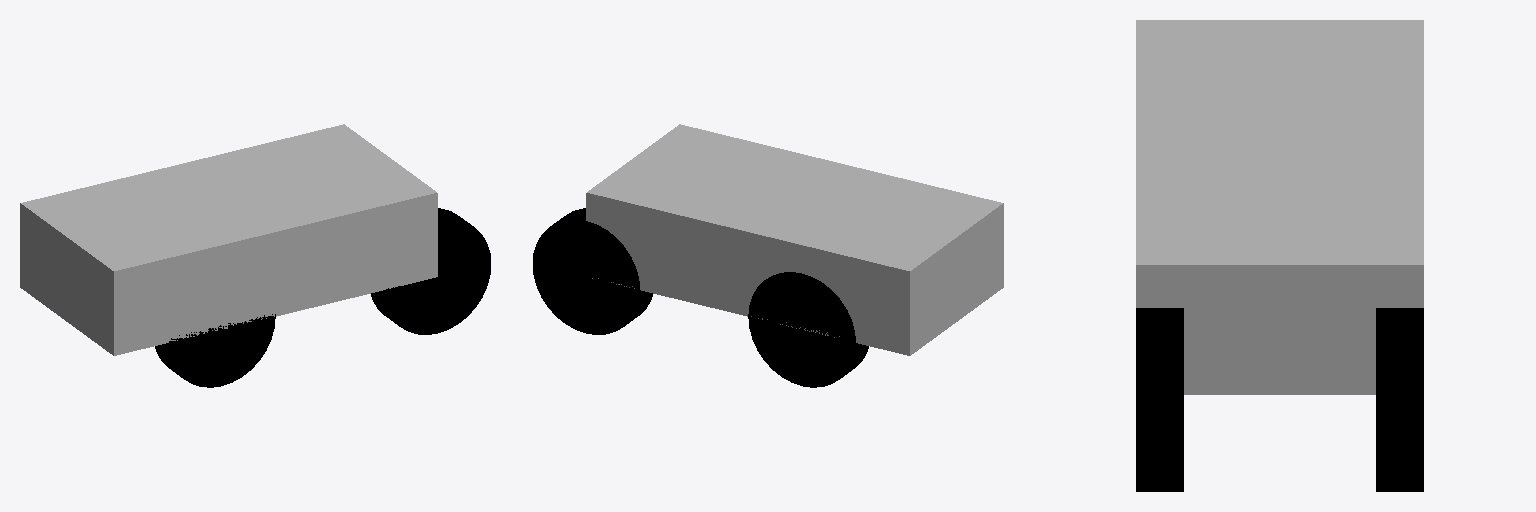
The robot description file, URDF, robot "tortoisebot":
<?xml version="1.0"?>
<robot name="tortoisebot">

  <link name="base_link">
    <visual>
      <geometry>
        <box size="0.6 0.3 0.15"/>
      </geometry>
      <material name="silver">
        <color rgba="0.75 0.75 0.75 1"/>
      </material>
    </visual>
    <collision>
      <geometry>
      <box size="0.6 0.3 0.3"/>
      </geometry>
    </collision>
    <inertial>
      <mass value="1.0"/>
      <inertia ixx="0.015" iyy="0.0375" izz="0.0375" ixy="0" ixz="0" iyz="0"/>
    </inertial>
  </link>

  <link name="right_front_wheel">
    <visual>
      <geometry>
        <cylinder length="0.05" radius="0.1"/>"0.3 0.1 0.1"/>
      </geometry>
      <material name="black">
        <color rgba="0 0 0 1"/>
      </material>
    </visual>
    <collision>
      <geometry>
        <cylinder length="0.05" radius="0.1"/>"0.3 0.1 0.1"/>
      </geometry>
      <surface>
        
      </surface>
    </collision> 
    <inertial>
      <mass value="0.1"/>
      <inertia ixx="5.1458e-5" iyy="5.1458e-5" izz="6.125e-5" ixy="0" ixz="0" iyz="0"/>
    </inertial>
  </link>

  <joint name="right_front_wheel_joint" type="continuous">
    <axis xyz="0 0 1"/>
    <parent link="base_link"/>
    <child link="right_front_wheel"/>
    <origin rpy="-1.5708 0 0" xyz="0.3 -0.125 -.075"/>
  </joint>

  <gazebo reference="right_front_wheel">
    <kp>1000000.0</kp>
    <!-- kp and kd for rubber -->
    <kd>100.0</kd>
    <mu1>1.0</mu1>
    <!-- was 10 -->
    <mu2>1.0</mu2>
    <!-- how to get these into <surface><friction><ode>... ?
        slip1 0.5 /slip1 
         slip2 0 /slip2 
      -->
    <!-- fdir1 0 1 0 /fdir1 -->
    <!-- see http://github.com/MobileRobots/amr-ros-config/issues/6 -->
    <maxVel>1.0</maxVel>
    <minDepth>0.00</minDepth>
    <material value="Gazebo/Black"/>
  </gazebo>

  <link name="right_back_wheel">
    <visual>
      <geometry>
        <cylinder length="0.05" radius="0.1"/>"0.3 0.1 0.1"/>
      </geometry>
      <material name="black">
        <color rgba="0 0 0 1"/>
      </material>
    </visual>
    <collision>
      <geometry>
        <cylinder length="0.05" radius="0.1"/>"0.3 0.1 0.1"/>
      </geometry>
      <surface>
        
      </surface>
    </collision> 
    <inertial>
      <mass value="0.1"/>
      <inertia ixx="5.1458e-5" iyy="5.1458e-5" izz="6.125e-5" ixy="0" ixz="0" iyz="0"/>
    </inertial>
  </link>

  <joint name="right_back_wheel_joint" type="continuous">
    <axis xyz="0 0 1"/>
    <parent link="base_link"/>
    <child link="right_back_wheel"/>
    <origin rpy="-1.5708 0 0" xyz="-0.1 -0.125 -.075"/>
  </joint>

  <gazebo reference="right_back_wheel">
    <kp>1000000.0</kp>
    <!-- kp and kd for rubber -->
    <kd>100.0</kd>
    <mu1>1.0</mu1>
    <!-- was 10 -->
    <mu2>1.0</mu2>
    <!-- how to get these into <surface><friction><ode>... ?
        slip1 0.5 /slip1 
         slip2 0 /slip2 
      -->
    <!-- fdir1 0 1 0 /fdir1 -->
    <!-- see http://github.com/MobileRobots/amr-ros-config/issues/6 -->
    <maxVel>1.0</maxVel>
    <minDepth>0.00</minDepth>
    <material value="Gazebo/Black"/>
  </gazebo>

  <link name="left_front_wheel">
    <visual>
      <geometry>
        <cylinder length="0.05" radius="0.1"/>"0.3 0.1 0.1"/>
      </geometry>
      <material name="black"/>
    </visual>
    <collision>
      <geometry>
        <cylinder length="0.05" radius="0.1"/>"0.3 0.1 0.1"/>
      </geometry>
      <surface>
        
      </surface>
    </collision> 
    <inertial>
      <mass value="0.1"/>
      <inertia ixx="5.1458e-5" iyy="5.1458e-5" izz="6.125e-5" ixy="0" ixz="0" iyz="0"/>
    </inertial>
  </link>

  <joint name="left_front_wheel_joint" type="continuous">
    <axis xyz="0 0 1"/>
    <parent link="base_link"/>
    <child link="left_front_wheel"/>
    <origin rpy="-1.5708 0 0" xyz="0.3 0.125 -.075"/>
  </joint>

  <gazebo reference="left_front_wheel">
    <kp>1000000.0</kp>
    <!-- kp and kd for rubber -->
    <kd>100.0</kd>
    <mu1>1.0</mu1>
    <!-- was 10 -->
    <mu2>1.0</mu2>
    <!-- how to get these into <surface><friction><ode>... ?
        slip1 0.5 /slip1 
         slip2 0 /slip2 
      -->
    <!-- fdir1 0 1 0 /fdir1 -->
    <!-- see http://github.com/MobileRobots/amr-ros-config/issues/6 -->
    <maxVel>1.0</maxVel>
    <minDepth>0.00</minDepth>
    <material value="Gazebo/Black"/>
  </gazebo>

  <link name="left_back_wheel">
    <visual>
      <geometry>
        <cylinder length="0.05" radius="0.1"/>"0.3 0.1 0.1"/>
      </geometry>
      <material name="black"/>
    </visual>
    <collision>
      <geometry>
        <cylinder length="0.05" radius="0.1"/>"0.3 0.1 0.1"/>
      </geometry>
      <surface>
        
      </surface>
    </collision> 
    <inertial>
      <mass value="0.1"/>
      <inertia ixx="5.1458e-5" iyy="5.1458e-5" izz="6.125e-5" ixy="0" ixz="0" iyz="0"/>
    </inertial>
  </link>

  <joint name="left_back_wheel_joint" type="continuous">
    <axis xyz="0 0 1"/>
    <parent link="base_link"/>
    <child link="left_back_wheel"/>
    <origin rpy="-1.5708 0 0" xyz="-0.1 0.125 -.075"/>
  </joint>

  <gazebo reference="left_back_wheel">
    <kp>1000000.0</kp>
    <!-- kp and kd for rubber -->
    <kd>100.0</kd>
    <mu1>1.0</mu1>
    <!-- was 10 -->
    <mu2>1.0</mu2>
    <!-- how to get these into <surface><friction><ode>... ?
        slip1 0.5 /slip1 
         slip2 0 /slip2 
      -->
    <!-- fdir1 0 1 0 /fdir1 -->
    <!-- see http://github.com/MobileRobots/amr-ros-config/issues/6 -->
    <maxVel>1.0</maxVel>
    <minDepth>0.00</minDepth>
    <material value="Gazebo/Black"/>
  </gazebo>

<!---->
    <transmission name="right_back_wheel_transmission">
        <type>transmission_interface/SimpleTransmission</type>
        <joint name="right_back_wheel_joint">
            <hardwareInterface>EffortJointInterface</hardwareInterface>
        </joint>
        <actuator name="$right_back_wheel_motor">
            <hardwareInterface>EffortJointInterface</hardwareInterface>
            <mechanicalReduction>1</mechanicalReduction>
        </actuator>
    </transmission>

    <transmission name="right_front_wheel_transmission">
        <type>transmission_interface/SimpleTransmission</type>
        <joint name="right_front_wheel_joint">
            <hardwareInterface>EffortJointInterface</hardwareInterface>
        </joint>
        <actuator name="$right_front_wheel_motor">
            <hardwareInterface>EffortJointInterface</hardwareInterface>
            <mechanicalReduction>1</mechanicalReduction>
        </actuator>
    </transmission>

    <transmission name="left_front_wheel_transmission">
        <type>transmission_interface/SimpleTransmission</type>
        <joint name="left_front_wheel_joint">
            <hardwareInterface>EffortJointInterface</hardwareInterface>
        </joint>
        <actuator name="$left_front_wheel_motor">
            <hardwareInterface>EffortJointInterface</hardwareInterface>
            <mechanicalReduction>1</mechanicalReduction>
        </actuator>
    </transmission>

    <transmission name="left_back_wheel_transmission">
        <type>transmission_interface/SimpleTransmission</type>
        <joint name="left_back_wheel_joint">
            <hardwareInterface>EffortJointInterface</hardwareInterface>
        </joint>
        <actuator name="$left_back_wheel_motor">
            <hardwareInterface>EffortJointInterface</hardwareInterface>
            <mechanicalReduction>1</mechanicalReduction>
        </actuator>
    </transmission>


  <gazebo>
    <plugin name="skid_steer_drive_controller" filename="libgazebo_ros_skid_steer_drive.so">
      <updateRate>100.0</updateRate>
      <robotNamespace>/</robotNamespace>
      <leftFrontJoint>left_front_wheel_joint</leftFrontJoint>
      <rightFrontJoint>right_front_wheel_joint</rightFrontJoint>
      <leftRearJoint>left_back_wheel_joint</leftRearJoint>
      <rightRearJoint>right_back_wheel_joint</rightRearJoint>
      <wheelSeparation>0.25}</wheelSeparation>
      <wheelDiameter>0.2</wheelDiameter>
      <robotBaseFrame>base_link</robotBaseFrame>
      <torque>20</torque>
      <commandName>cmd_vel</commandName>
      <broadcastTF>false</broadcastTF>
    </plugin>
  </gazebo>

  <gazebo>
    <plugin name="joint_state_publisher" filename="libgazebo_ros_joint_state_publisher.so">
      <jointName>left_back_wheel_joint, right_back_wheel_joint, left_front_wheel_joint, right_front_wheel_joint</jointName>
    </plugin>
  </gazebo>


</robot>

--- What the picture shows (computed from the rendered views, not written in the file) ---
Views: 3 orthographic renders of the robot side by side, from view 1: azimuth 30°, elevation 25°; view 2: azimuth 150°, elevation 25°; view 3: azimuth 270°, elevation 25°.
Robot: tortoisebot — 5 links, 4 joints (4 continuous); root link base_link; default pose: every joint at zero.
Visible links, largest first — view 1: base_link, right_front_wheel, right_back_wheel; view 2: base_link, left_front_wheel, left_back_wheel; view 3: base_link, right_front_wheel, left_front_wheel.
Boxes of the visible links, box(x1,y1,x2,y2) form: base_link: box(20, 124, 437, 355); right_front_wheel: box(371, 208, 490, 334); right_back_wheel: box(155, 314, 275, 387); base_link: box(586, 124, 1003, 355); left_front_wheel: box(533, 208, 652, 334); left_back_wheel: box(748, 272, 868, 387); base_link: box(1136, 20, 1423, 394); right_front_wheel: box(1136, 308, 1183, 491); left_front_wheel: box(1376, 308, 1423, 491).
Bounding box of the posed robot: 0.7 × 0.3 × 0.25 m (x, y, z).
Geometry: primitives only (box / cylinder / sphere), no mesh files.